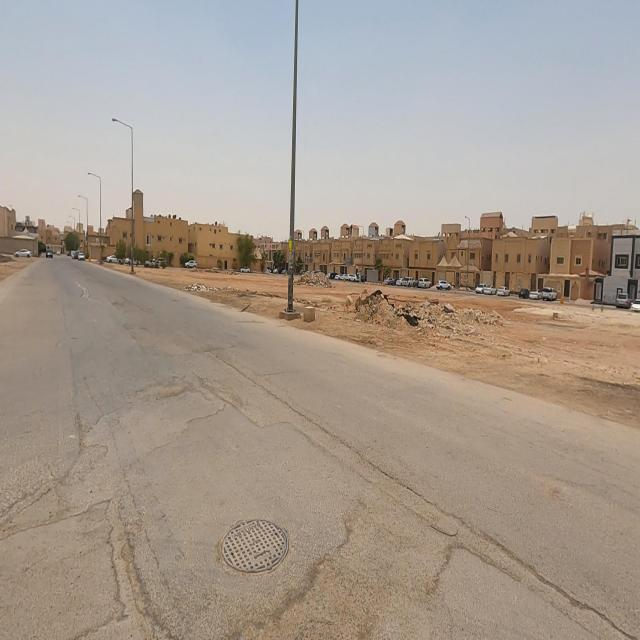debris: (376, 272, 438, 356), (334, 258, 398, 333), (164, 264, 234, 318)
